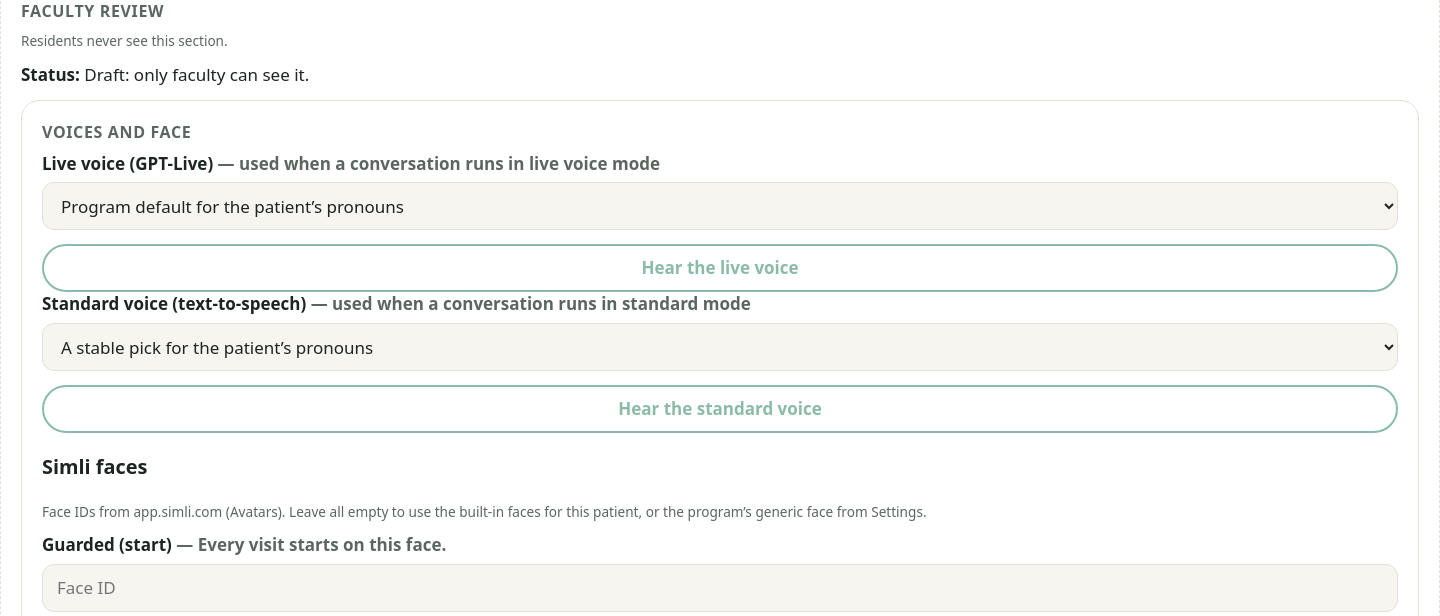
it: Briefing › lets faculty give this patient their own standard voice and Simli faces
(page scrolled)
Expected: the dropdown labelled "Live voice (GPT-Live)" is shown, [42,182,1398,230]
Select "Hank — Gruff" in the dropdown labelled "Standard voice (text-to-speech)" at (720, 347), box [42,323,1398,371]
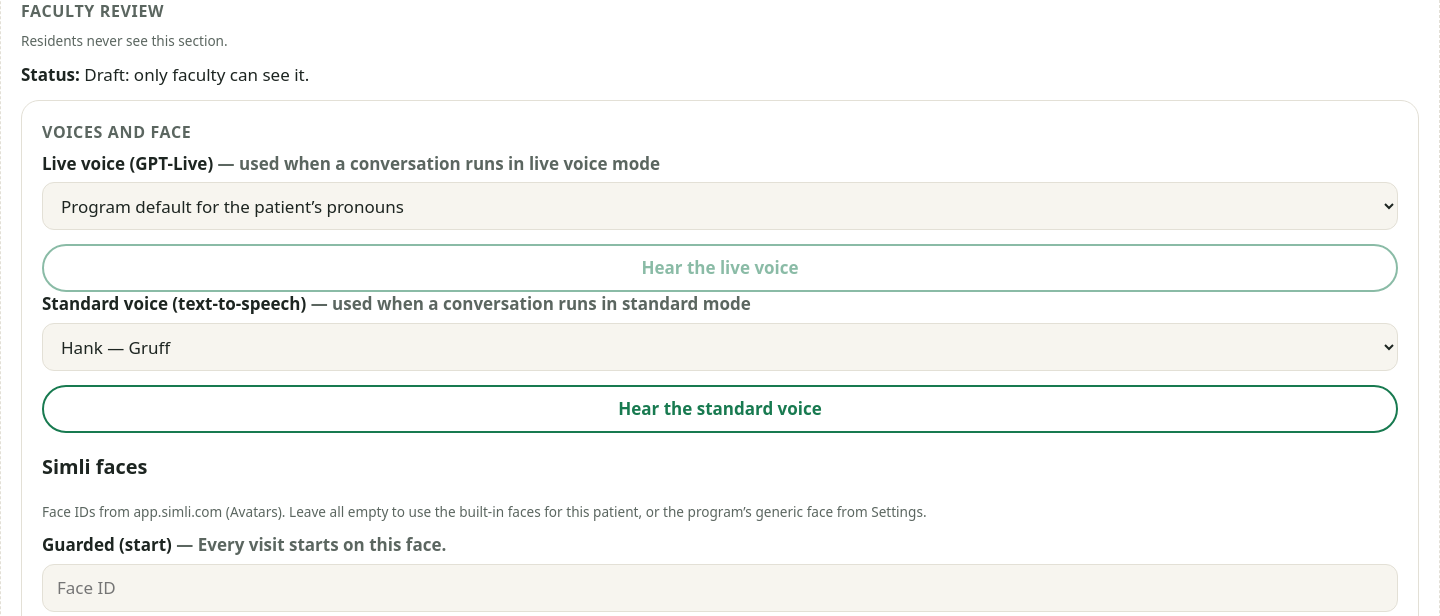
Type "aaaaaaaa-0000-4000-8000-000000000001" into the field labelled "Guarded (start) — Every visit starts on this face." at (720, 588), box [42,564,1398,612]
(page scrolled)
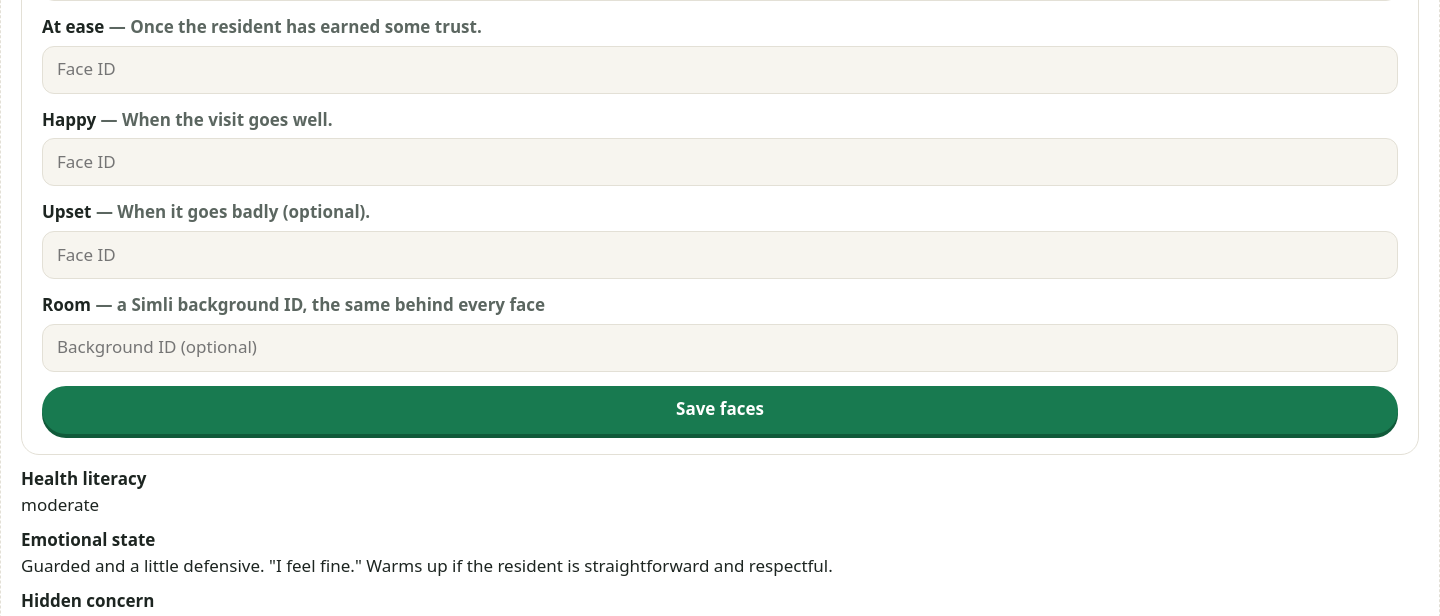
Type "aaaaaaaa-0000-4000-8000-000000000003" into the field labelled "Room — a Simli background ID, the same behind every face" at (720, 348), box [42,324,1398,372]
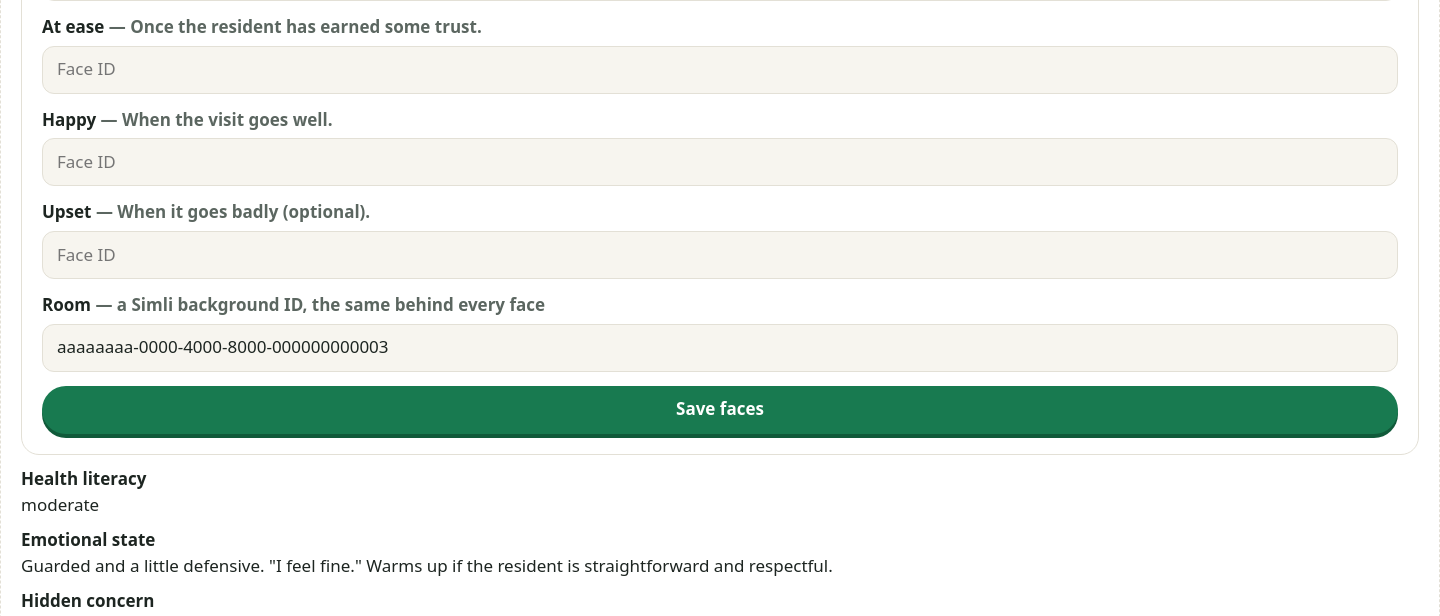
Click the button "Save faces" at (720, 410), box [42,386,1398,434]
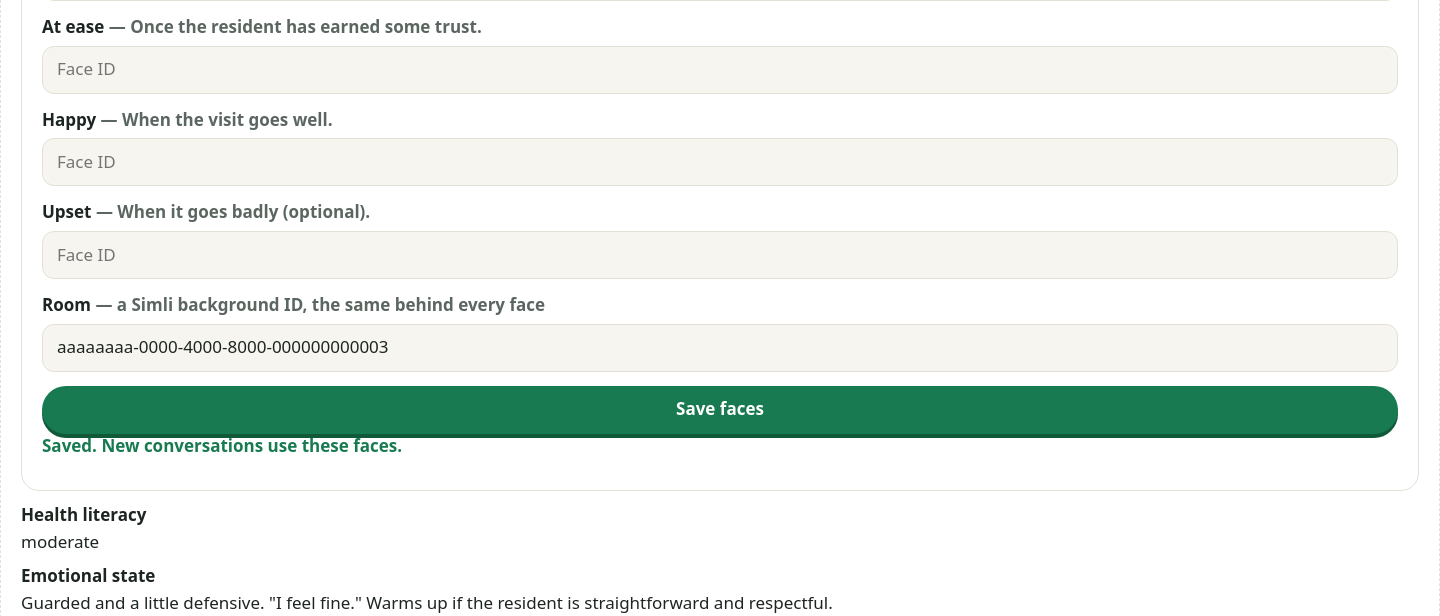
Now the text "Saved. New conversations use these faces." is shown, box [42,434,402,457]
